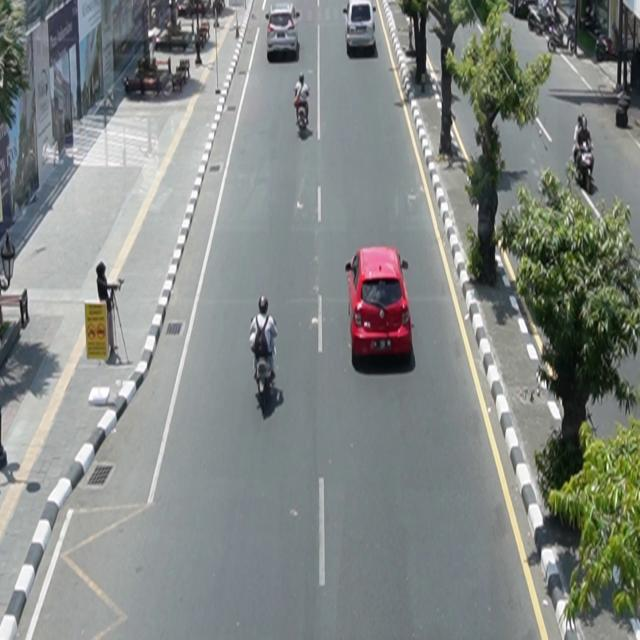car: (346, 246, 413, 364), (267, 5, 299, 60), (343, 1, 376, 54)
